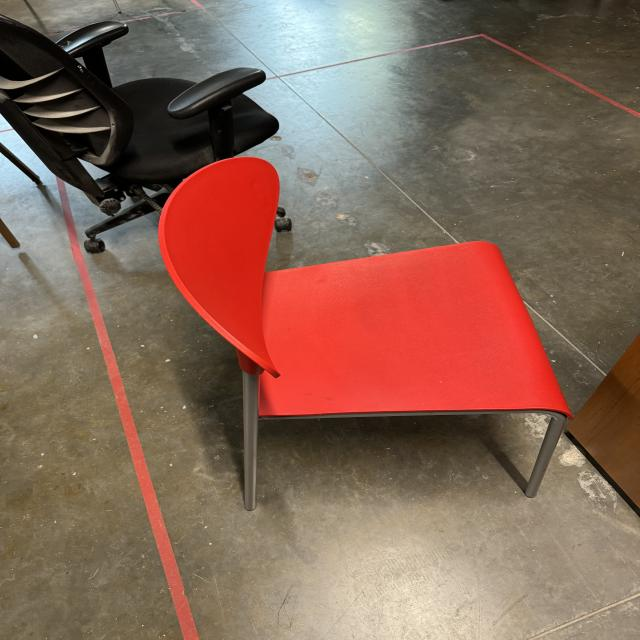chair: (147, 154, 570, 508)
